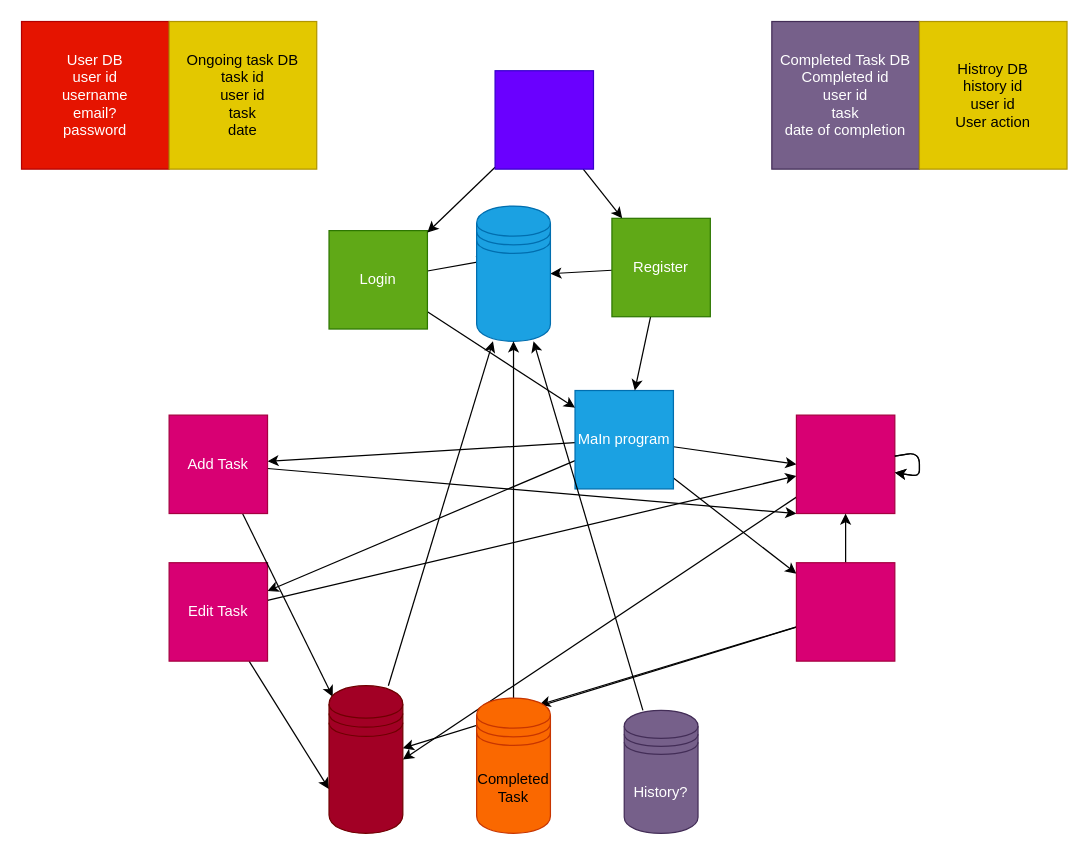
The diagram is 1089 pixels wide and 855 high, and some of its shapes have lost their labels. Here are the shapes that lost their labels. From the top down, the centre of each, then its label:
At [543,119]: "Welcome screen".
At [512,273]: "User".
At [845,464]: "Show Task".
At [845,611]: "Delete Task".
At [365,758]: "Ongoing Task".
